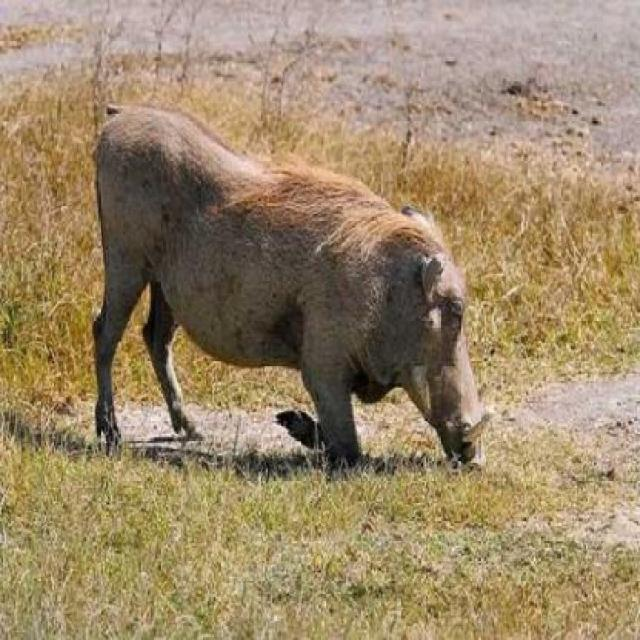pig: (100, 80, 517, 501)
